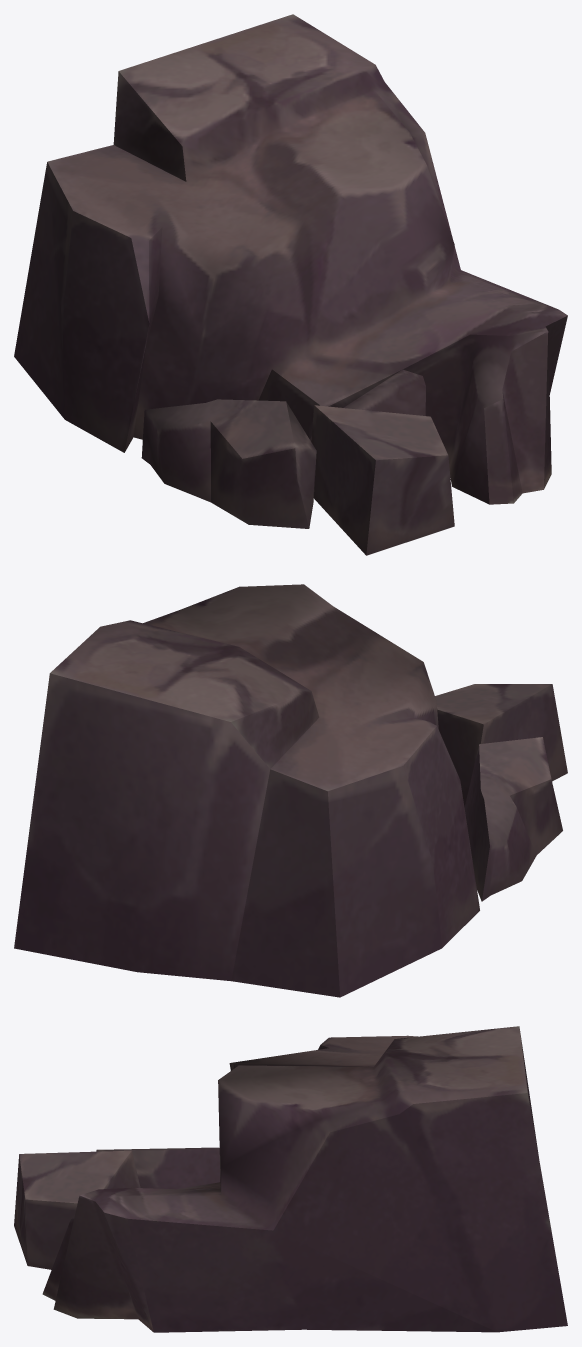
Rendered from Boss_13.FBX.
3 views of the same model, one above another, from view 1: azimuth 30°, elevation 25°; view 2: azimuth 150°, elevation 25°; view 3: azimuth 270°, elevation 25° (orthographic). The views are drawn at different scales.
Parts seen in each view (by area): view 1: Boss_13; view 2: Boss_13; view 3: Boss_13.
Boxes of the visible parts, x1,y1,x2,y2 form: Boss_13: (14,14,567,555); Boss_13: (14,584,567,997); Boss_13: (14,1026,567,1332).
Size of the model in its own units: 3.29 by 2.42 by 5.34.
